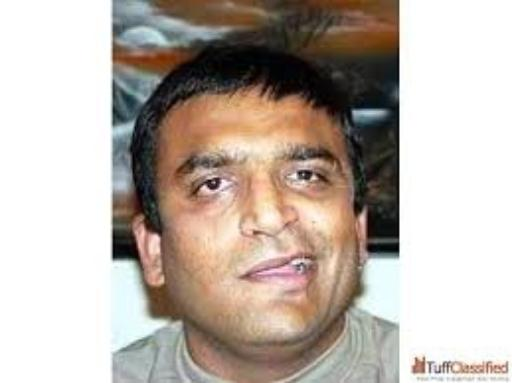left_eye: (286, 167, 335, 189)
left_lip_corner: (309, 255, 324, 272)
right_eye: (192, 175, 239, 199)
right_lip_corner: (234, 267, 253, 288)
